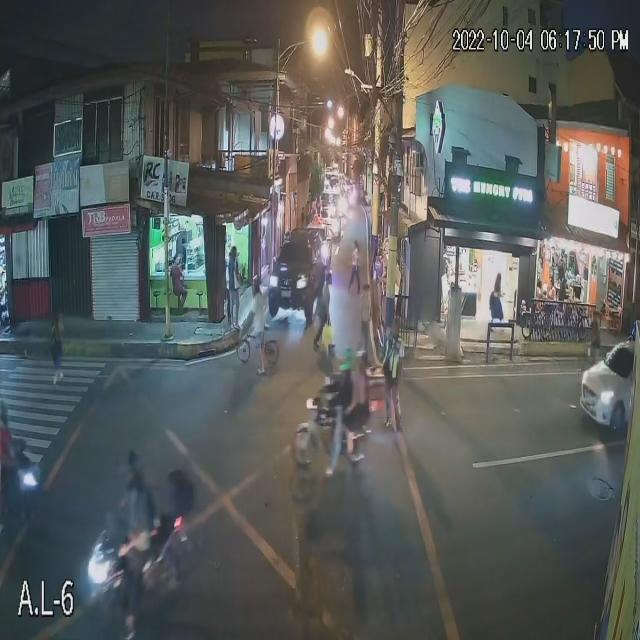helmet: (337, 348, 354, 365)
motorcycle: (84, 510, 195, 630), (291, 385, 365, 481), (0, 441, 40, 510)
rider: (110, 492, 156, 595), (318, 379, 365, 478), (0, 402, 17, 484)
